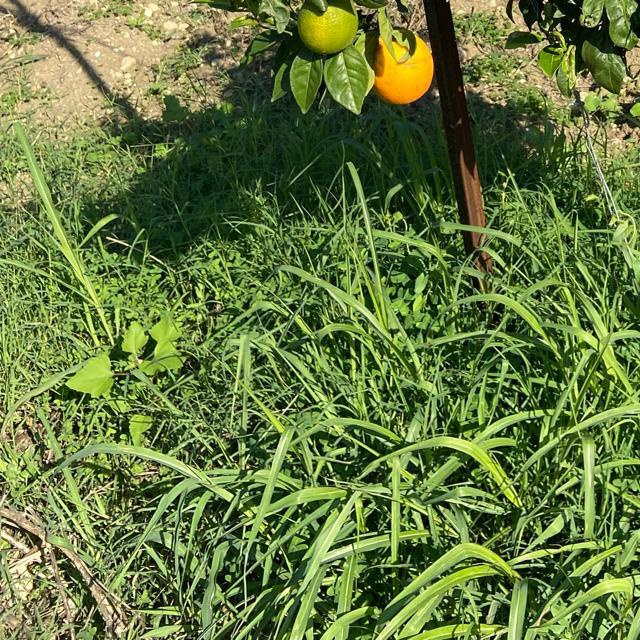orange: (357, 21, 435, 103), (293, 0, 357, 60)
